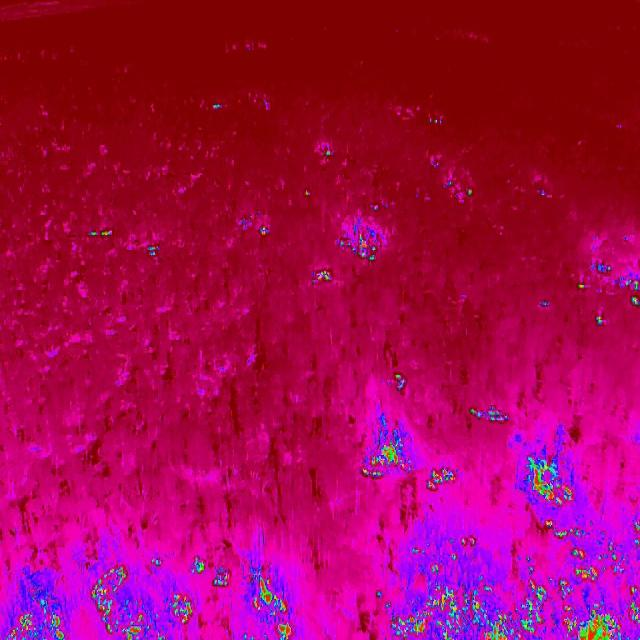fire: (370, 535, 640, 640), (0, 552, 301, 640), (360, 420, 460, 500), (508, 442, 585, 536), (577, 253, 640, 343), (304, 217, 384, 286), (472, 403, 511, 428), (388, 366, 410, 400), (86, 223, 114, 245)
